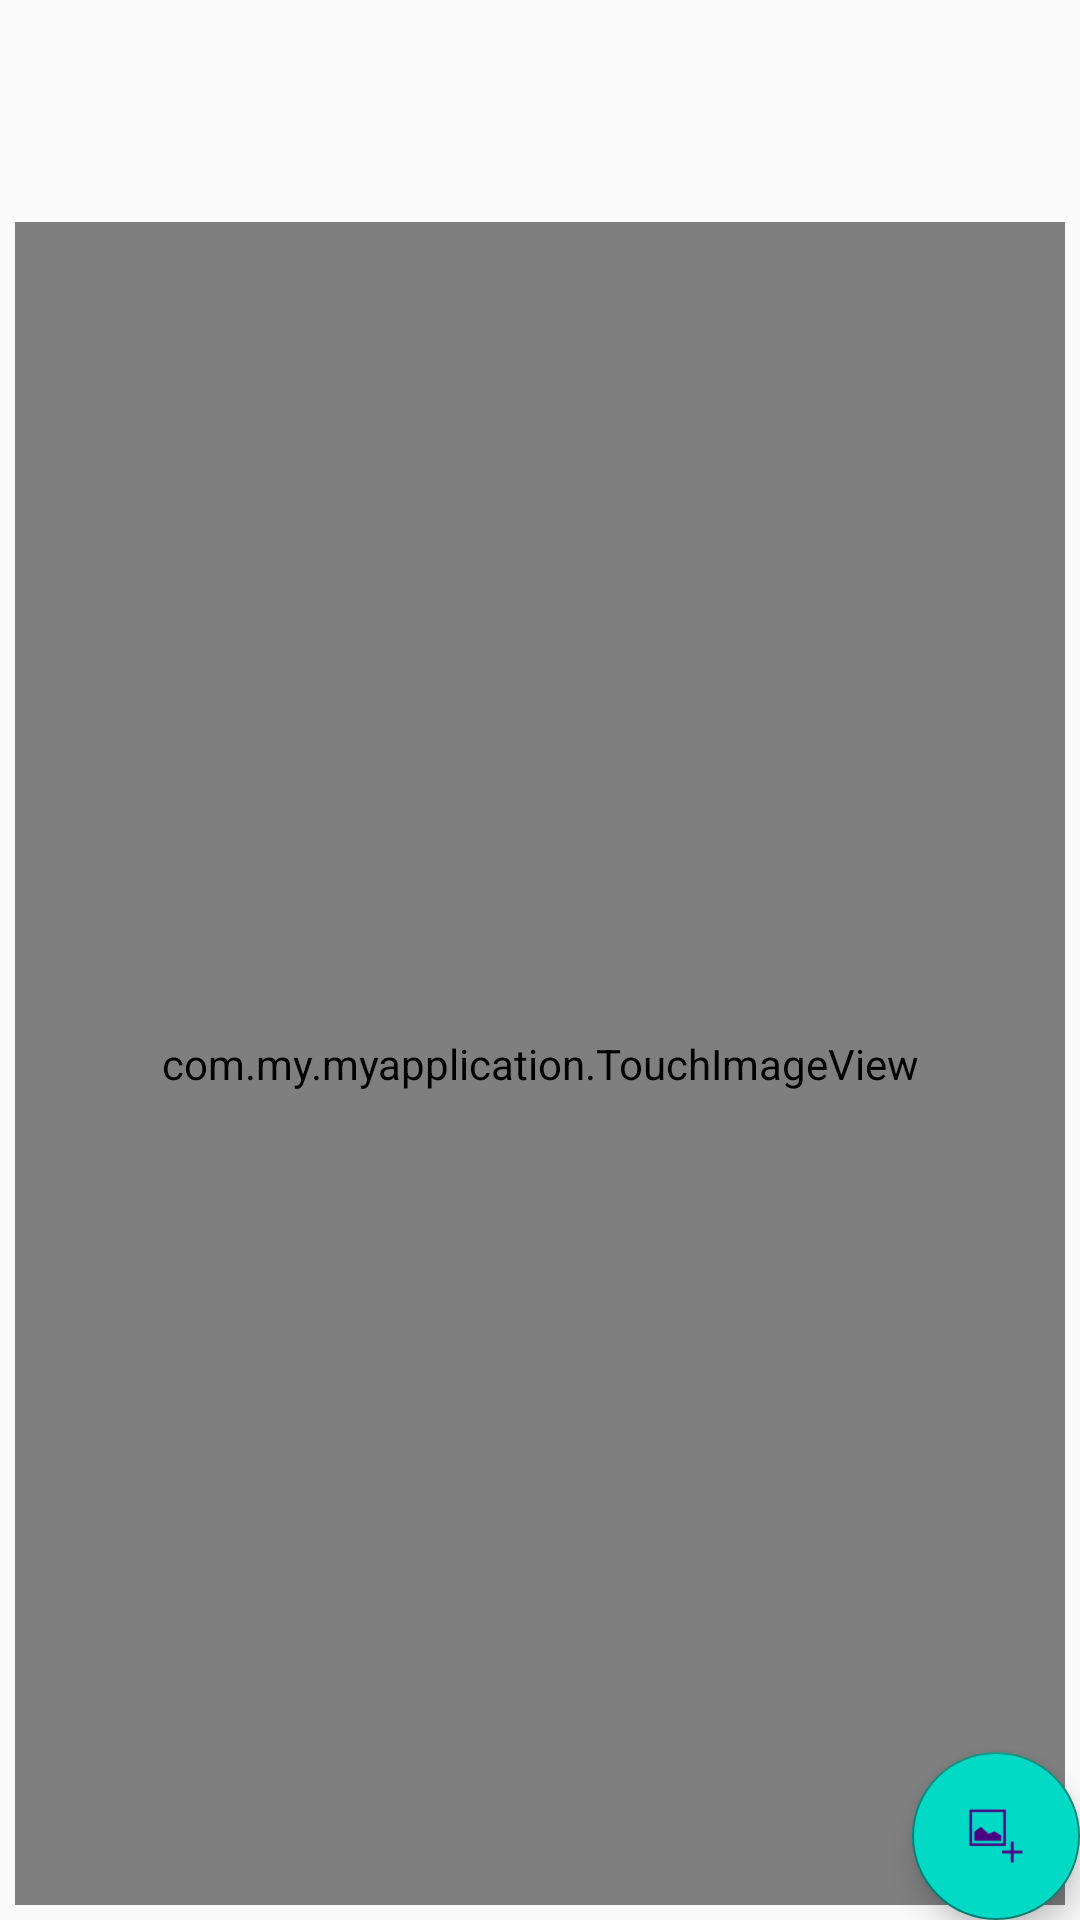

Icon click points for this 1080px x 1920px phone screenshot, format (x,y):
gallery: (996,1836)
